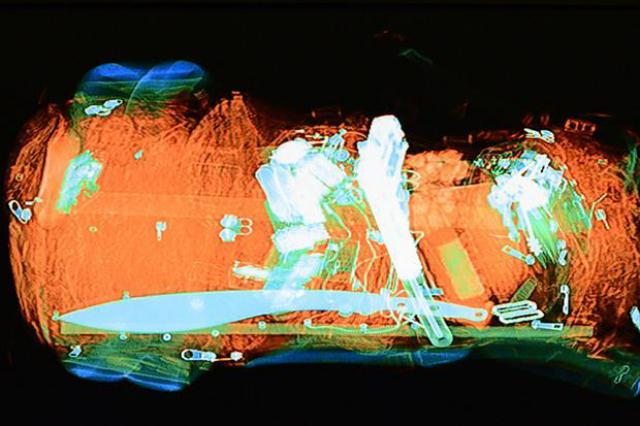Gun: (348, 106, 454, 346)
